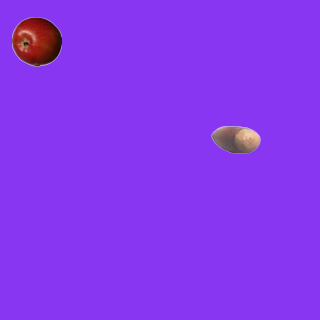Apple Braeburn: (11, 16, 61, 66)
Hazelnut: (210, 114, 260, 164)
